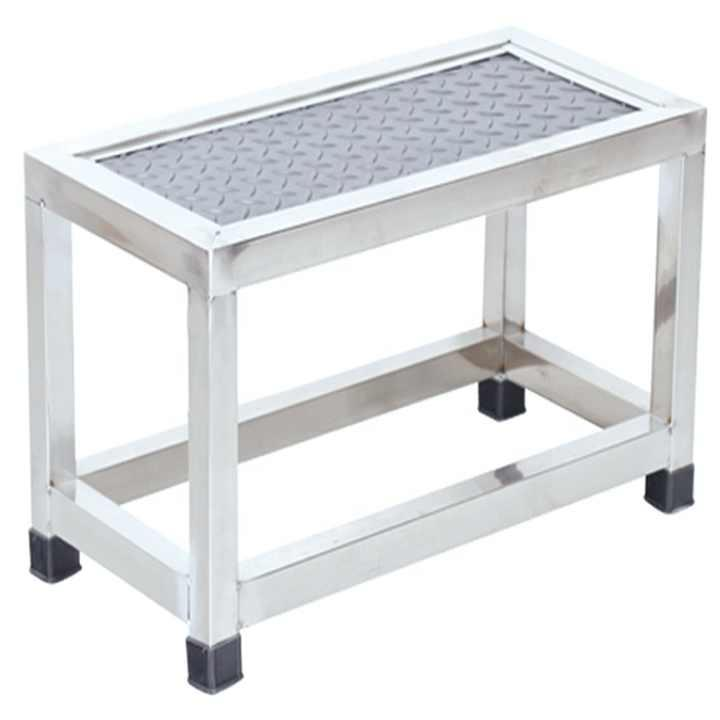stool: (17, 15, 713, 693)
